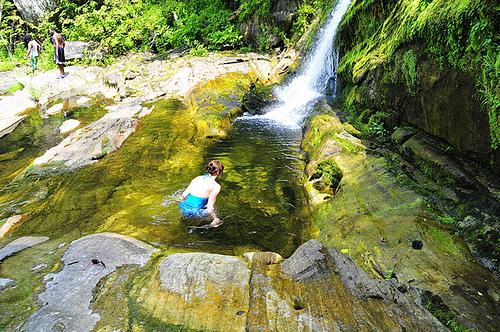swimmer: (181, 158, 226, 232)
